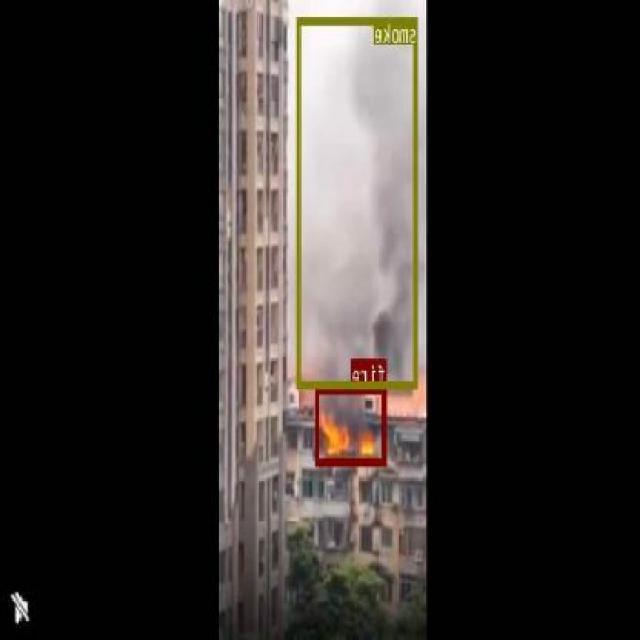Fire: (316, 384, 387, 464)
Smoke: (298, 16, 420, 387)
